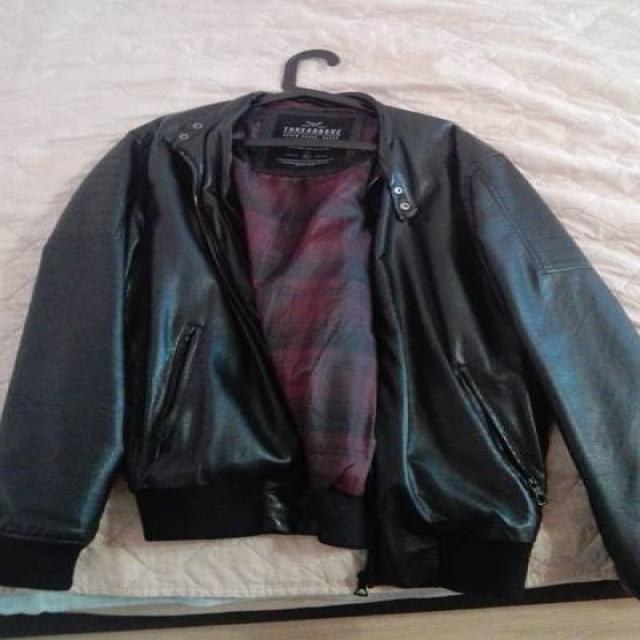Clothes -Biodegradable-: (0, 85, 640, 606)
